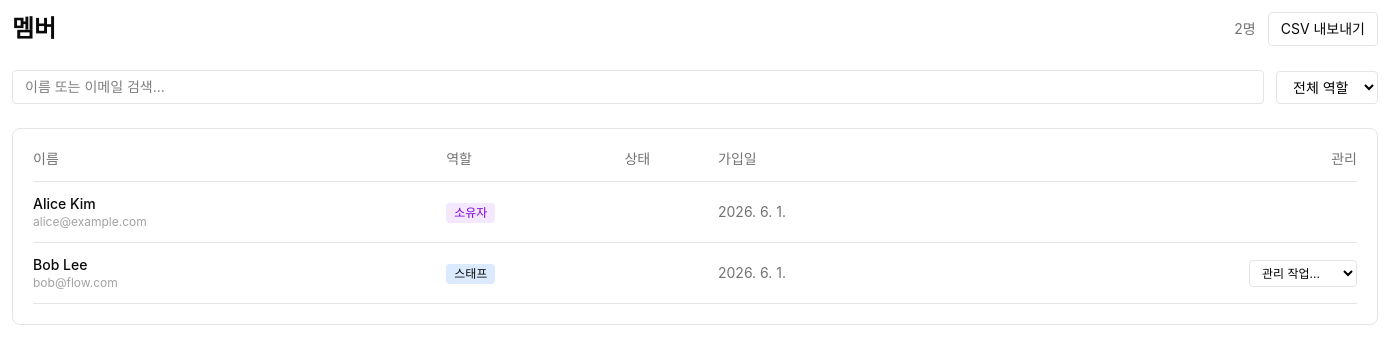
Test case: MembersPage › 검색 결과 없음 → 전용 빈 상태
Expected: the text "Alice Kim" is shown, [33,195,96,212]
In the search field named "멤버 검색": x=638, y=87 [12,70,1264,104], type "zzz-nomatch"
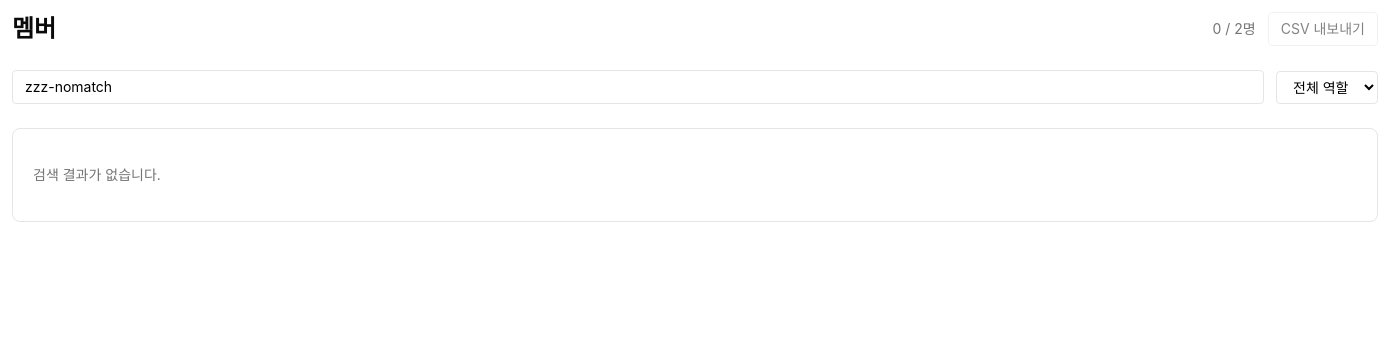
Expected: the text "검색 결과가 없습니다." is shown, [33,166,161,183]
Expected: the text "Alice Kim" is gone
